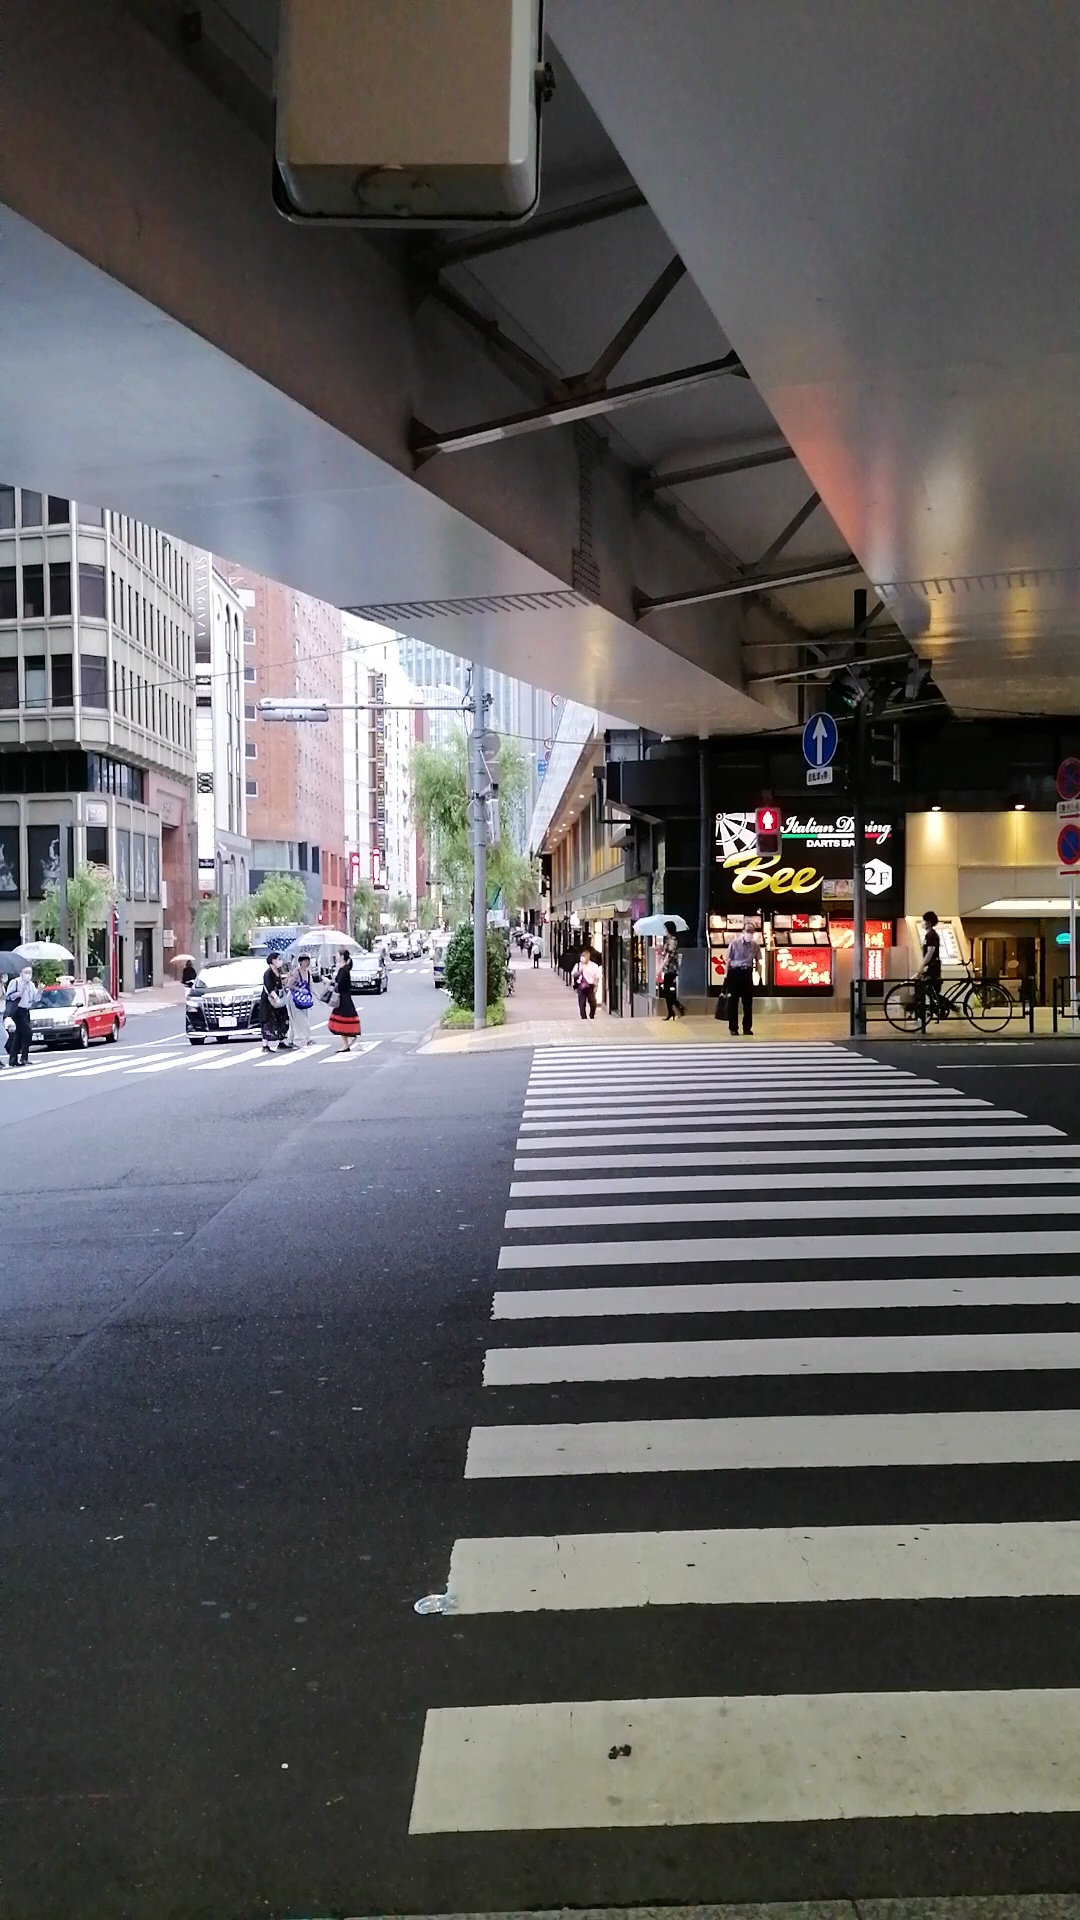red: (756, 804, 781, 855)
